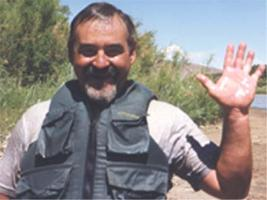person: (1, 3, 266, 200)
